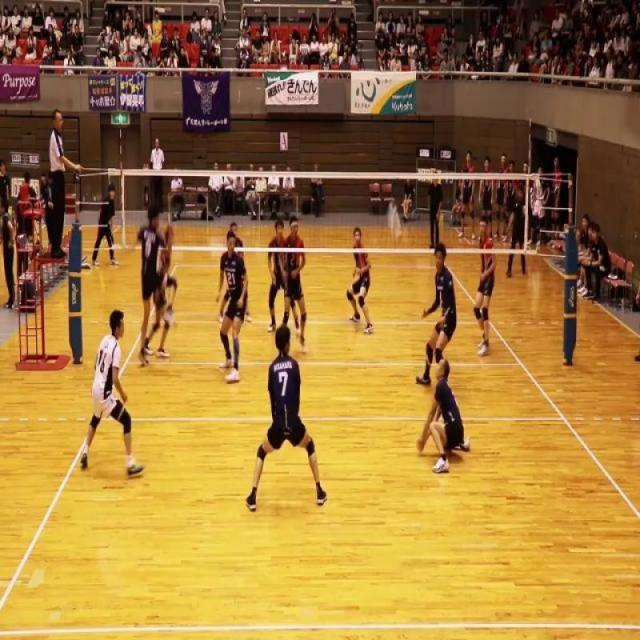volleyball: (386, 200, 404, 244)
